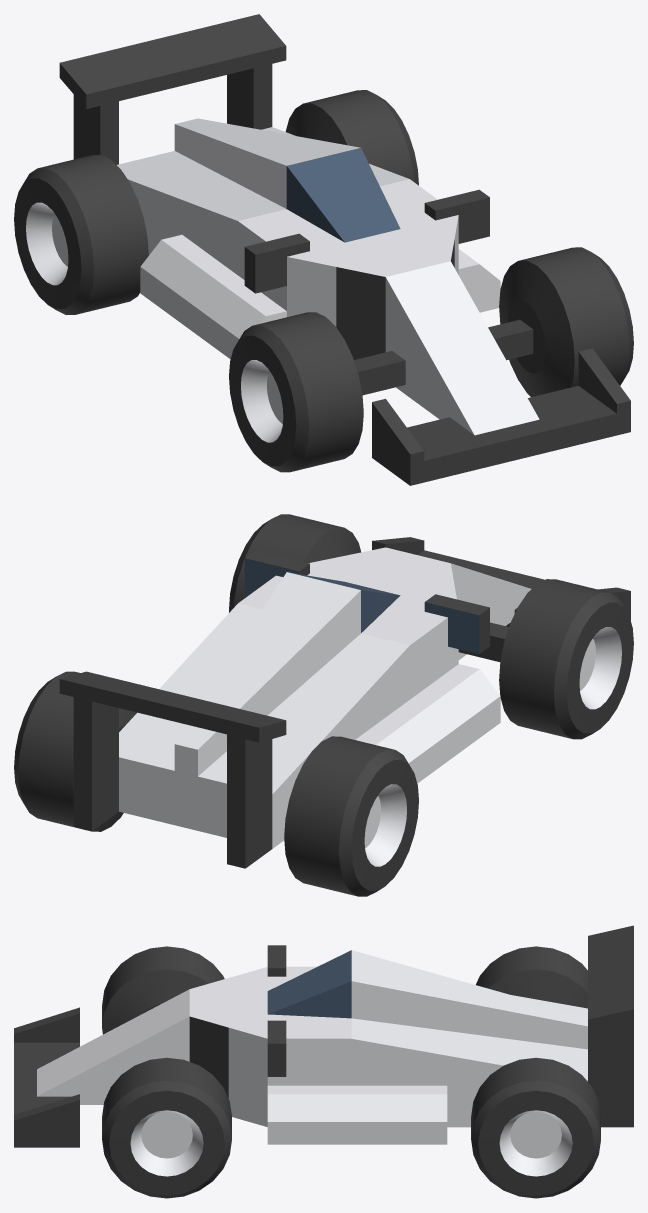
File: formula-white.glb
3 renders of one model, top to bottom at view 1: azimuth 30°, elevation 25°; view 2: azimuth 150°, elevation 25°; view 3: azimuth 270°, elevation 25°, orthographic. The views are drawn at different scales.
Parts seen in each view (by area): view 1: body, wheelFrontRight, wheelBackRight, wheelFrontLeft, wheelBackLeft; view 2: body, wheelBackRight, wheelFrontRight, wheelBackLeft, wheelFrontLeft; view 3: body, wheelBackLeft, wheelFrontLeft, wheelFrontRight, wheelBackRight.
Boxes of the visible parts, x1,y1,x2,y2 form: body: [59, 14, 630, 485]; wheelFrontRight: [229, 312, 363, 472]; wheelBackRight: [14, 155, 148, 314]; wheelFrontLeft: [499, 247, 633, 397]; wheelBackLeft: [285, 90, 418, 185]; body: [59, 537, 630, 868]; wheelBackRight: [284, 736, 418, 896]; wheelFrontRight: [499, 579, 633, 739]; wheelBackLeft: [14, 671, 136, 831]; wheelFrontLeft: [229, 514, 360, 612]; body: [14, 925, 633, 1147]; wheelBackLeft: [471, 1057, 600, 1198]; wheelFrontLeft: [102, 1057, 231, 1198]; wheelFrontRight: [102, 946, 224, 1034]; wheelBackRight: [476, 946, 587, 1008].
Bounding box in the file's own units: 0.7288 × 0.397 × 1.35.
